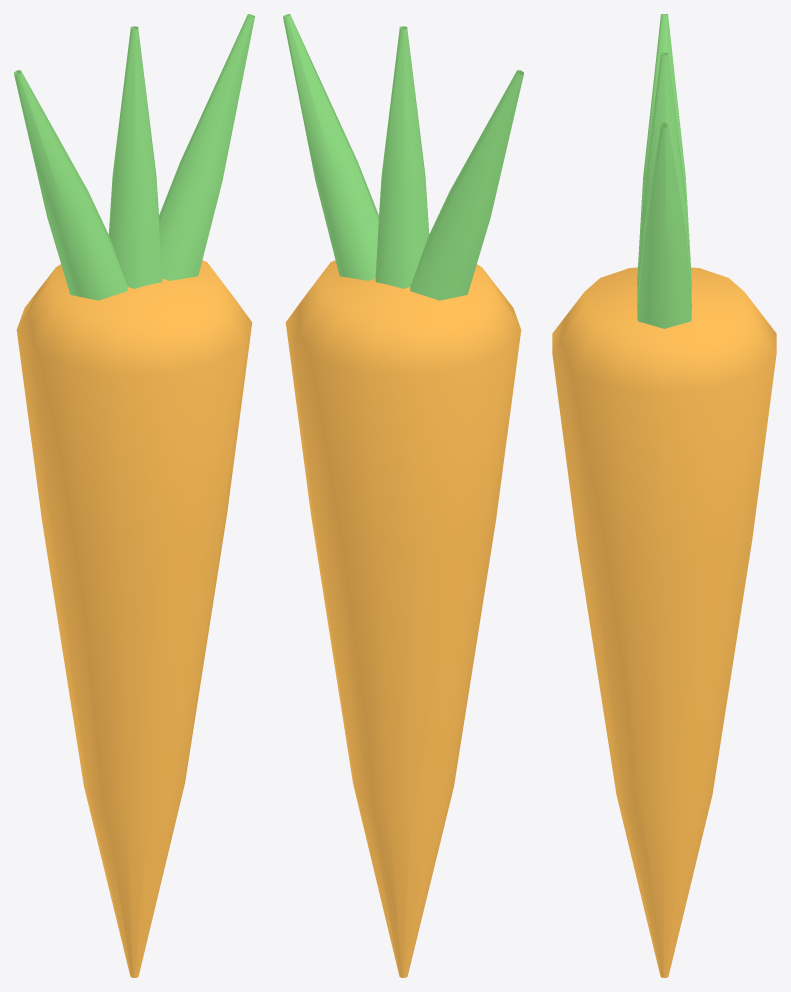
The model's file is carrot.glb.
3 renders of one model, left to right at view 1: azimuth 30°, elevation 25°; view 2: azimuth 150°, elevation 25°; view 3: azimuth 270°, elevation 25°, orthographic. The views are drawn at different scales.
Parts seen in each view (by area): view 1: carrot; view 2: carrot; view 3: carrot.
Part boxes in pixels (x1=…): carrot: x1=14, y1=14, x2=254, y2=977; carrot: x1=283, y1=14, x2=523, y2=977; carrot: x1=552, y1=14, x2=776, y2=977.
Bounding box in the file's own units: 0.0659 × 0.248 × 0.0546.
